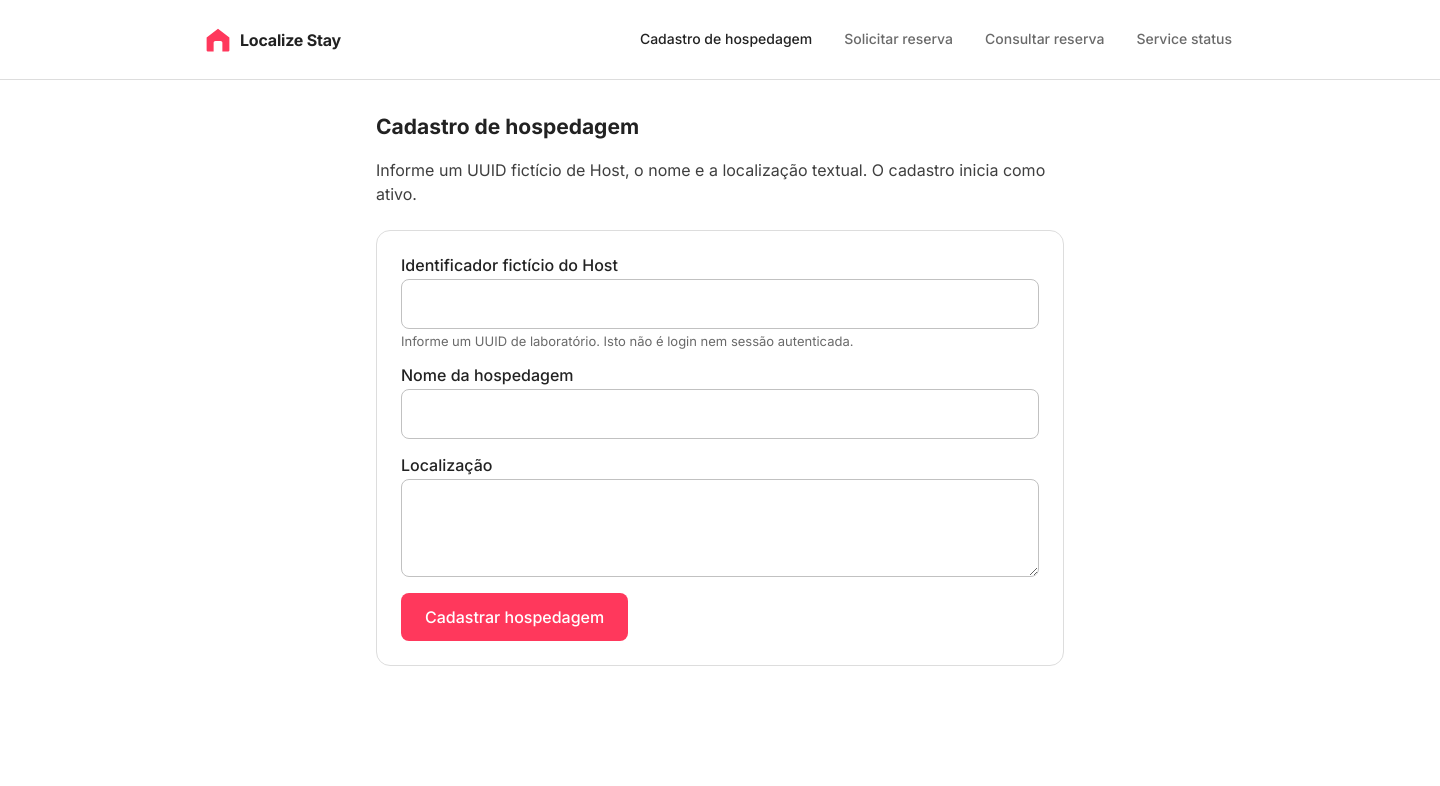
it: PropertyCreate › accepts a duplicate name and location as another 201 property
Type "421ec5d4-3ba2-4d8e-8958-a51dd0711650" into the field labelled "Identificador fictício do Host".
click(720, 304); type("421ec5d4-3ba2-4d8e-8958-a51dd0711650")  # box [401, 279, 1039, 329]
Type "Pousada Dunas do Sol" into the field labelled "Nome da hospedagem".
click(720, 414); type("Pousada Dunas do Sol")  # box [401, 389, 1039, 439]
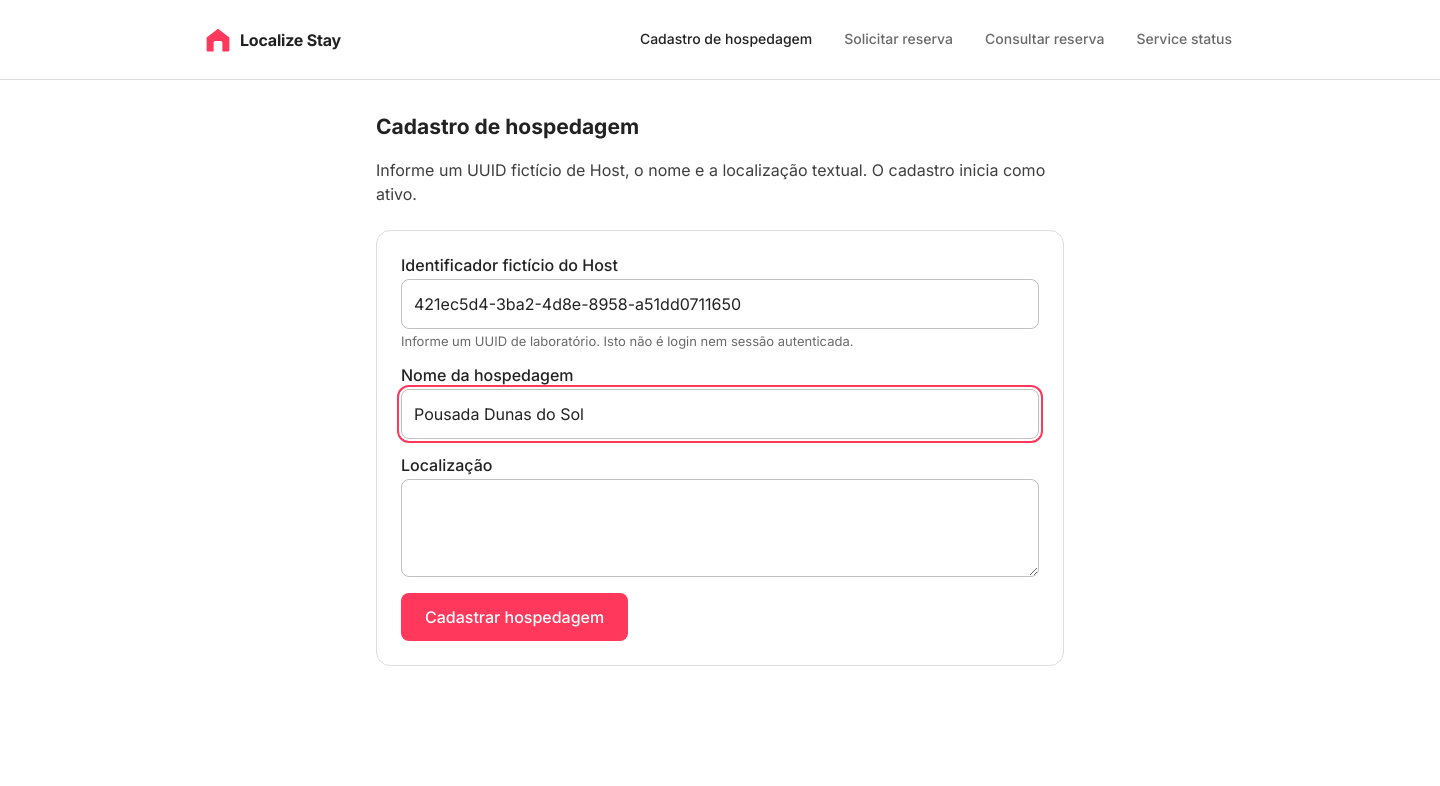
Type "Cumbuco, Caucaia - CE" into the text box labelled "Localização".
click(720, 528); type("Cumbuco, Caucaia - CE")  # box [401, 479, 1039, 577]
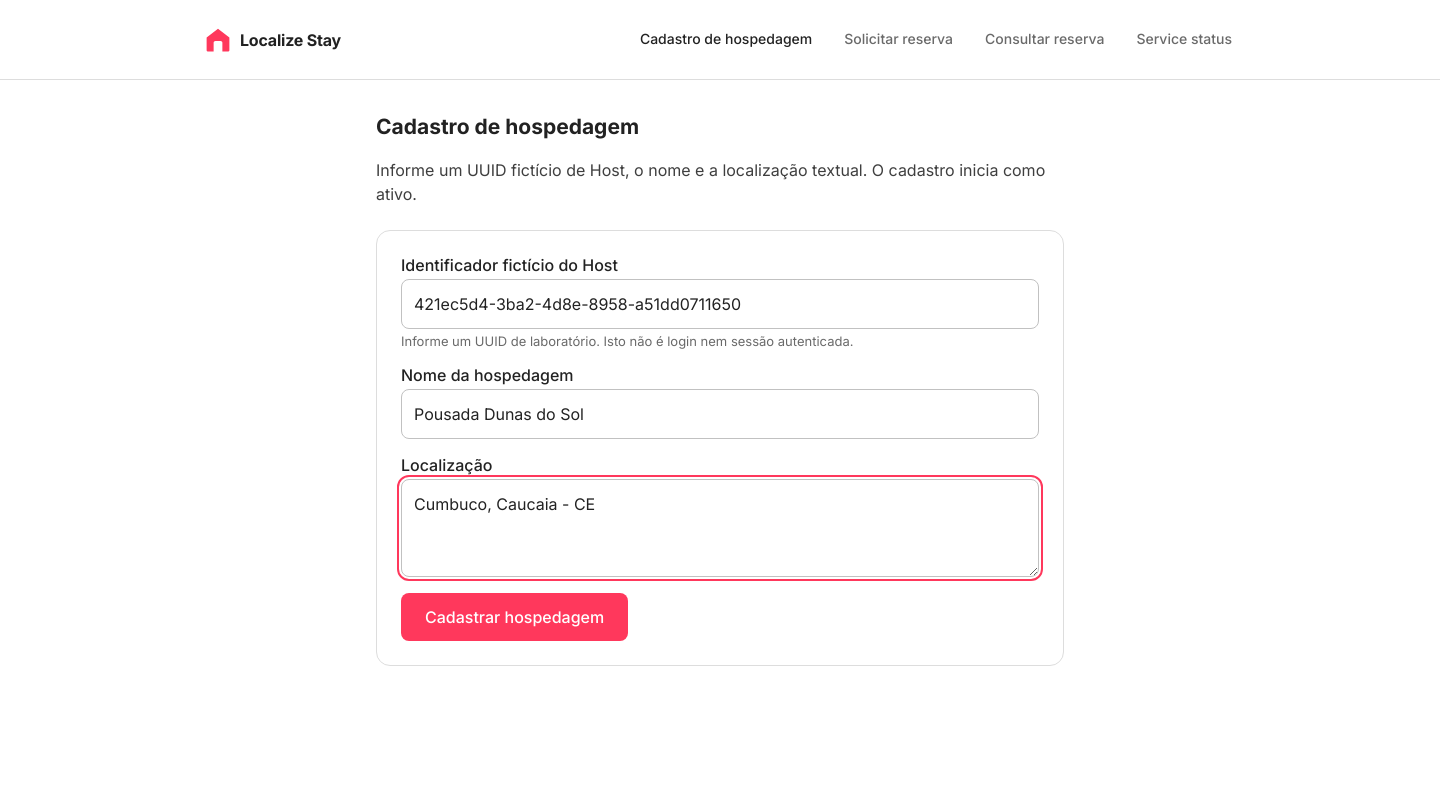
Click the button "Cadastrar hospedagem".
click(515, 617)  # box [401, 593, 628, 641]
(page scrolled)
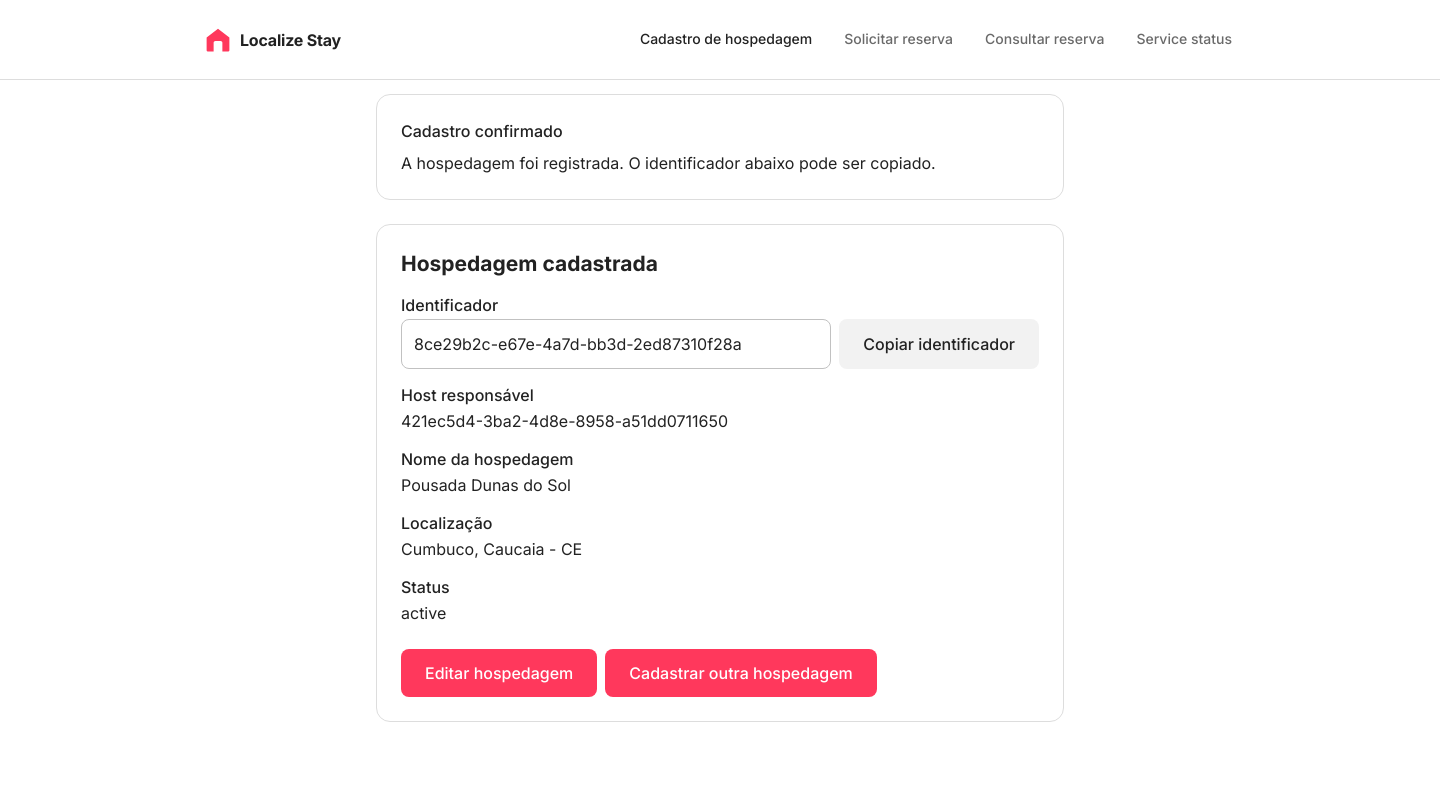
Expected: the field labelled "Identificador" holds "8ce29b2c-e67e-4a7d-bb3d-2ed87310f28a", [401, 319, 831, 369]
Click the button "Cadastrar outra hospedagem".
click(741, 673)  # box [605, 649, 877, 697]
(page scrolled)
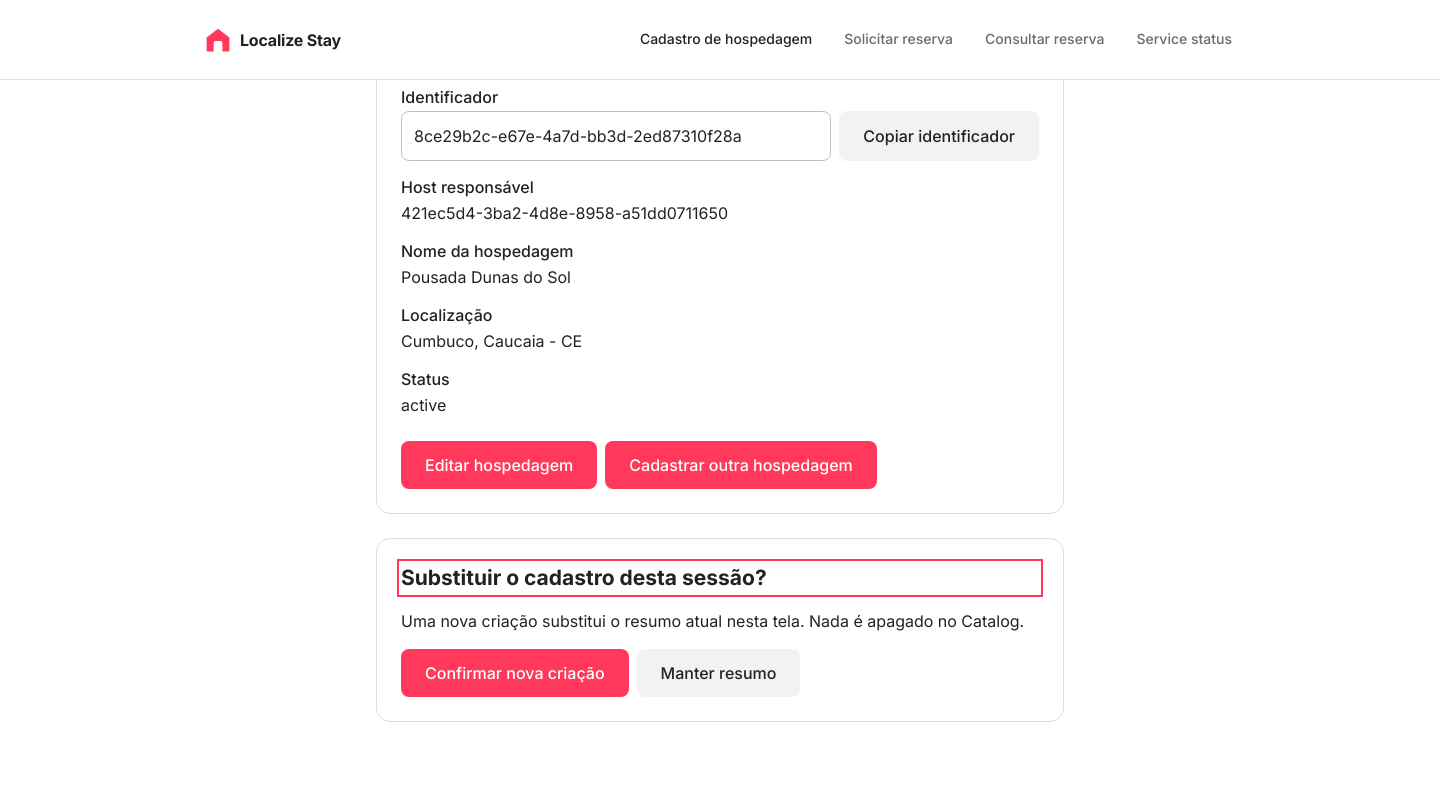
Click the button "Confirmar nova criação".
click(515, 673)  # box [401, 649, 629, 697]
(page scrolled)
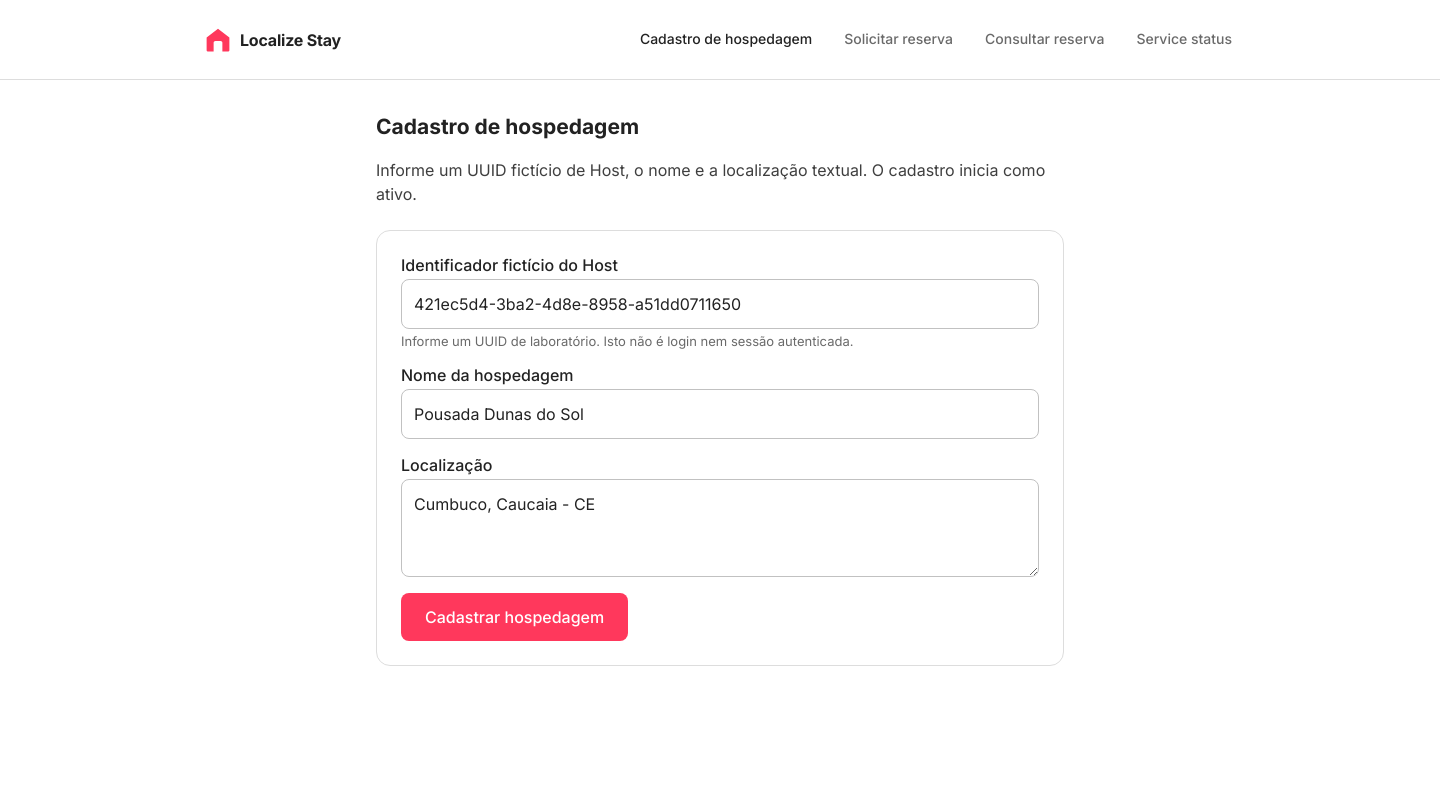
Click the button "Cadastrar hospedagem".
click(515, 617)  # box [401, 593, 628, 641]
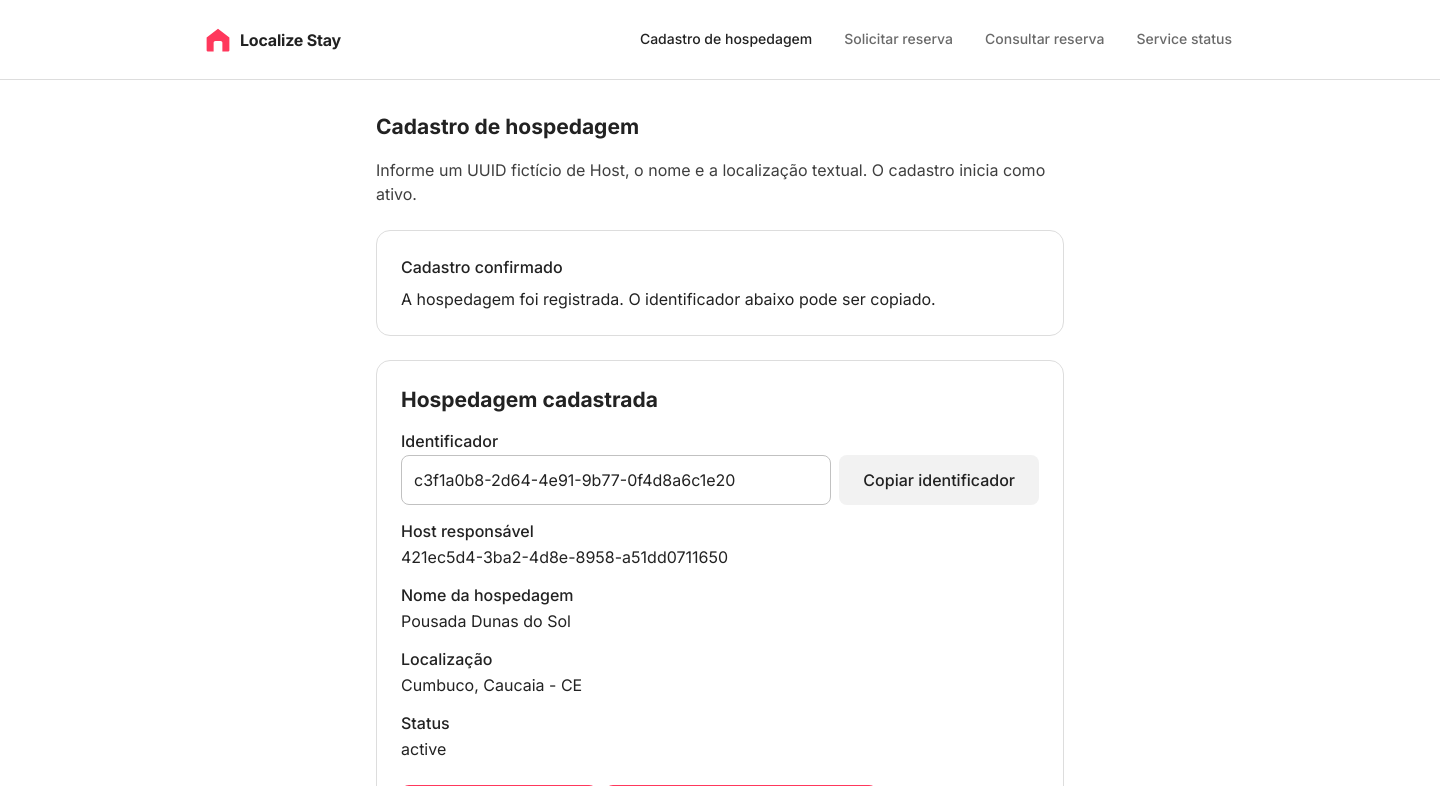
Expected: the field labelled "Identificador" holds "c3f1a0b8-2d64-4e91-9b77-0f4d8a6c1e20", [401, 455, 831, 505]
Expected: the text "Pousada Dunas do Sol" is shown, [401, 611, 571, 631]
